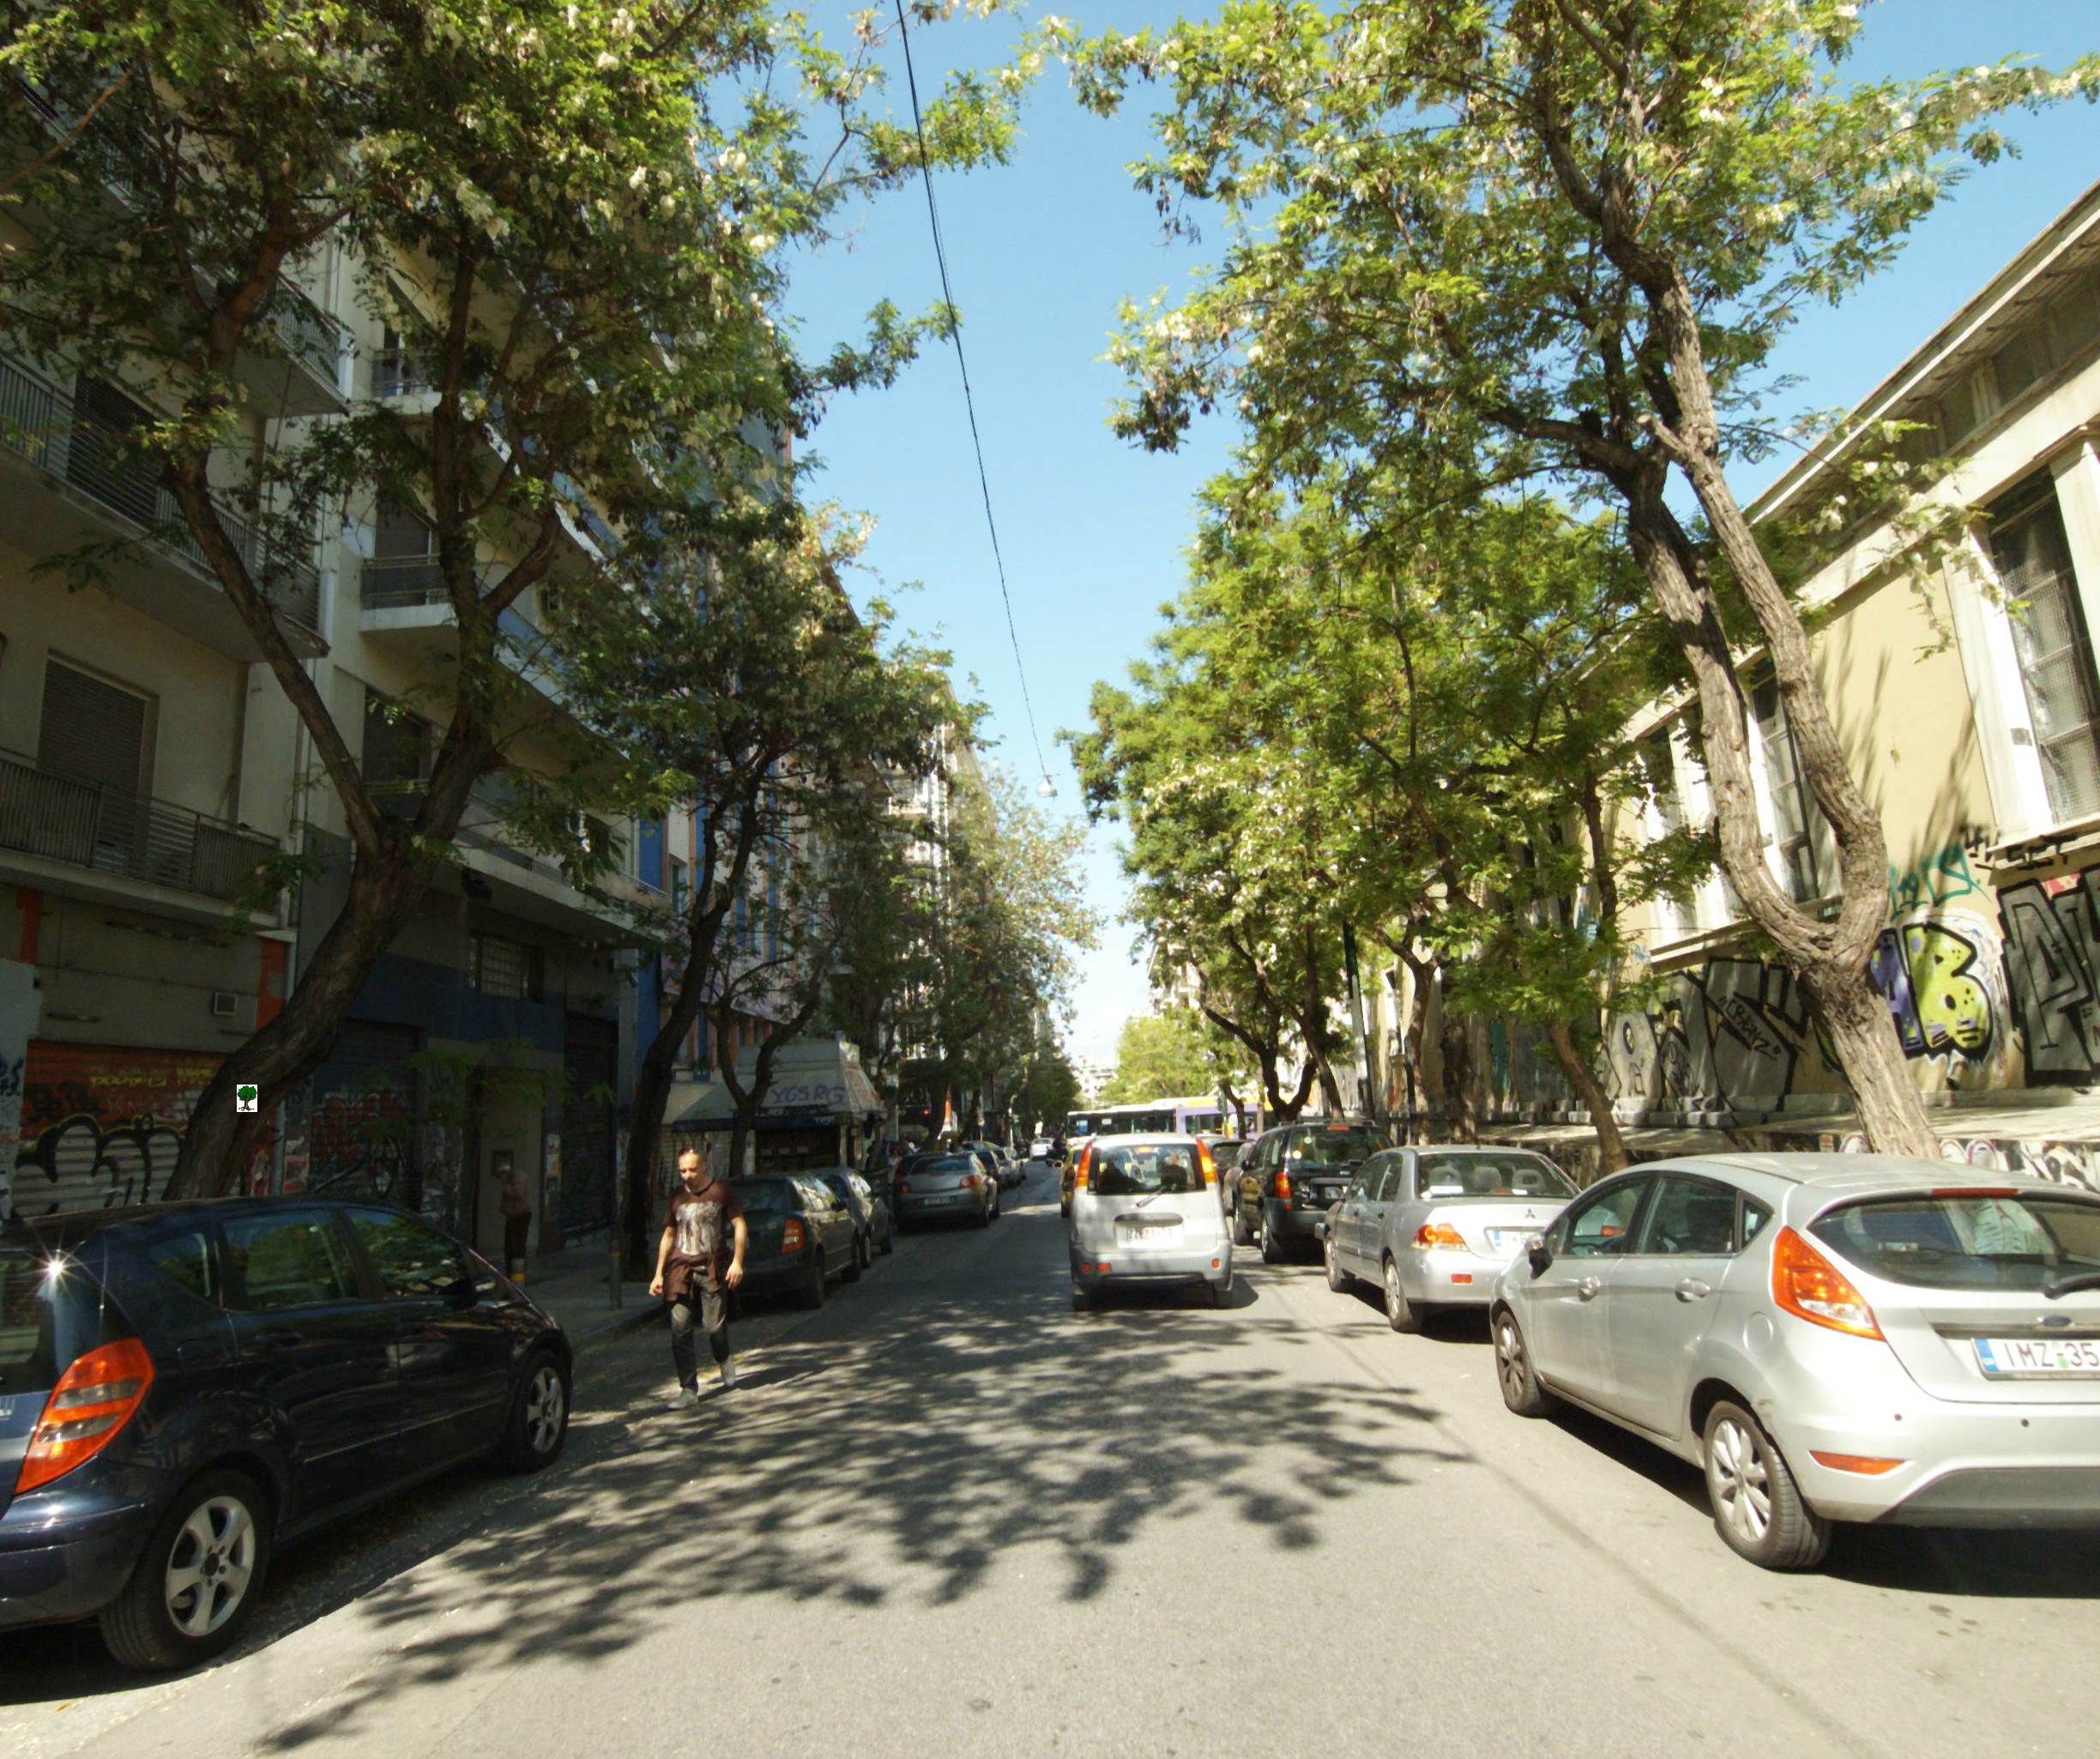tree: (12, 10, 649, 1448)
